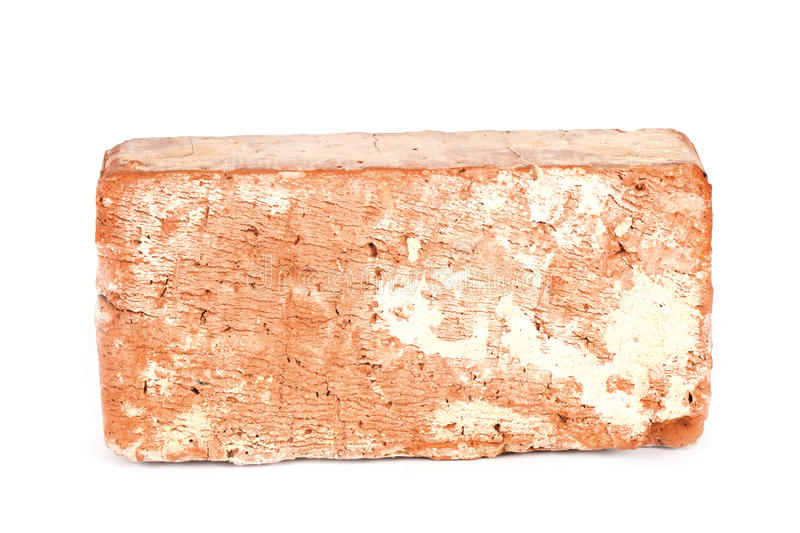brick: (102, 147, 706, 446)
